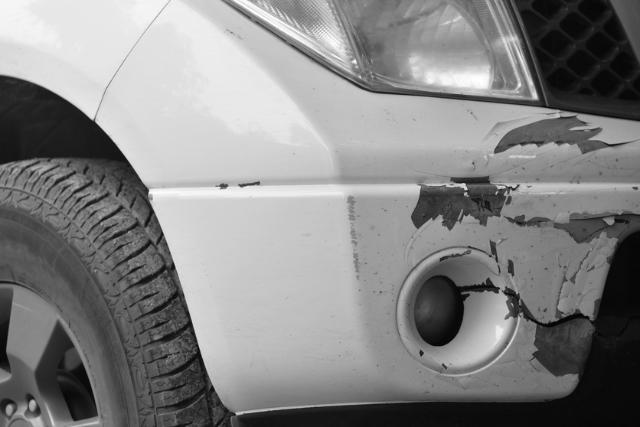Bumper: (403, 104, 640, 403)
